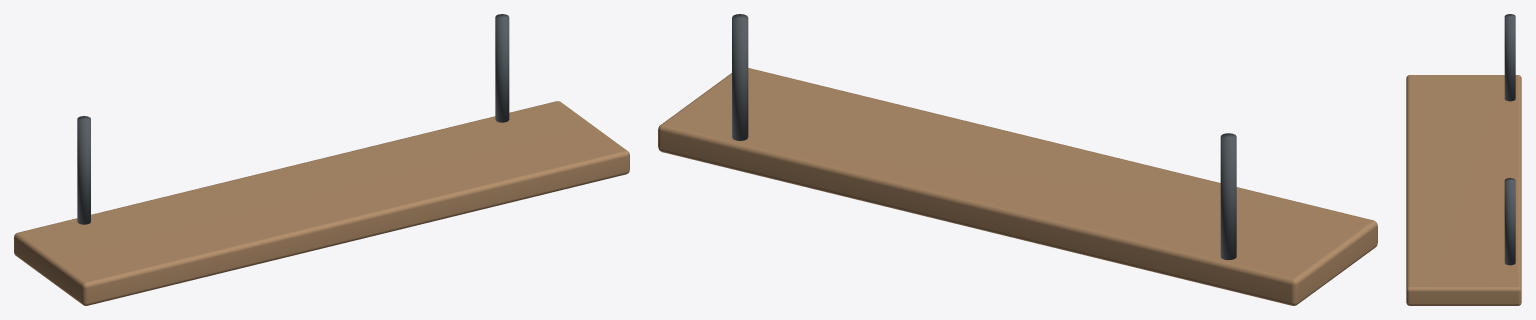
File: atelier-floating-shelf.glb
The picture shows the model from 3 angles, left to right: view 1: azimuth 30°, elevation 25°; view 2: azimuth 150°, elevation 25°; view 3: azimuth 270°, elevation 25°; orthographic projection. The views are drawn at different scales.
Visible parts, largest first — view 1: legs.081, metal.026; view 2: legs.081, metal.026; view 3: legs.081, metal.026.
Part boxes in pixels (x1,y1,x2,y2): legs.081: (14,101,629,305); metal.026: (77,14,509,224); legs.081: (658,68,1377,305); metal.026: (732,14,1236,260); legs.081: (1406,75,1521,305); metal.026: (1504,14,1515,265).
Size of the model in its own units: 1.1 by 0.2425 by 0.25.
